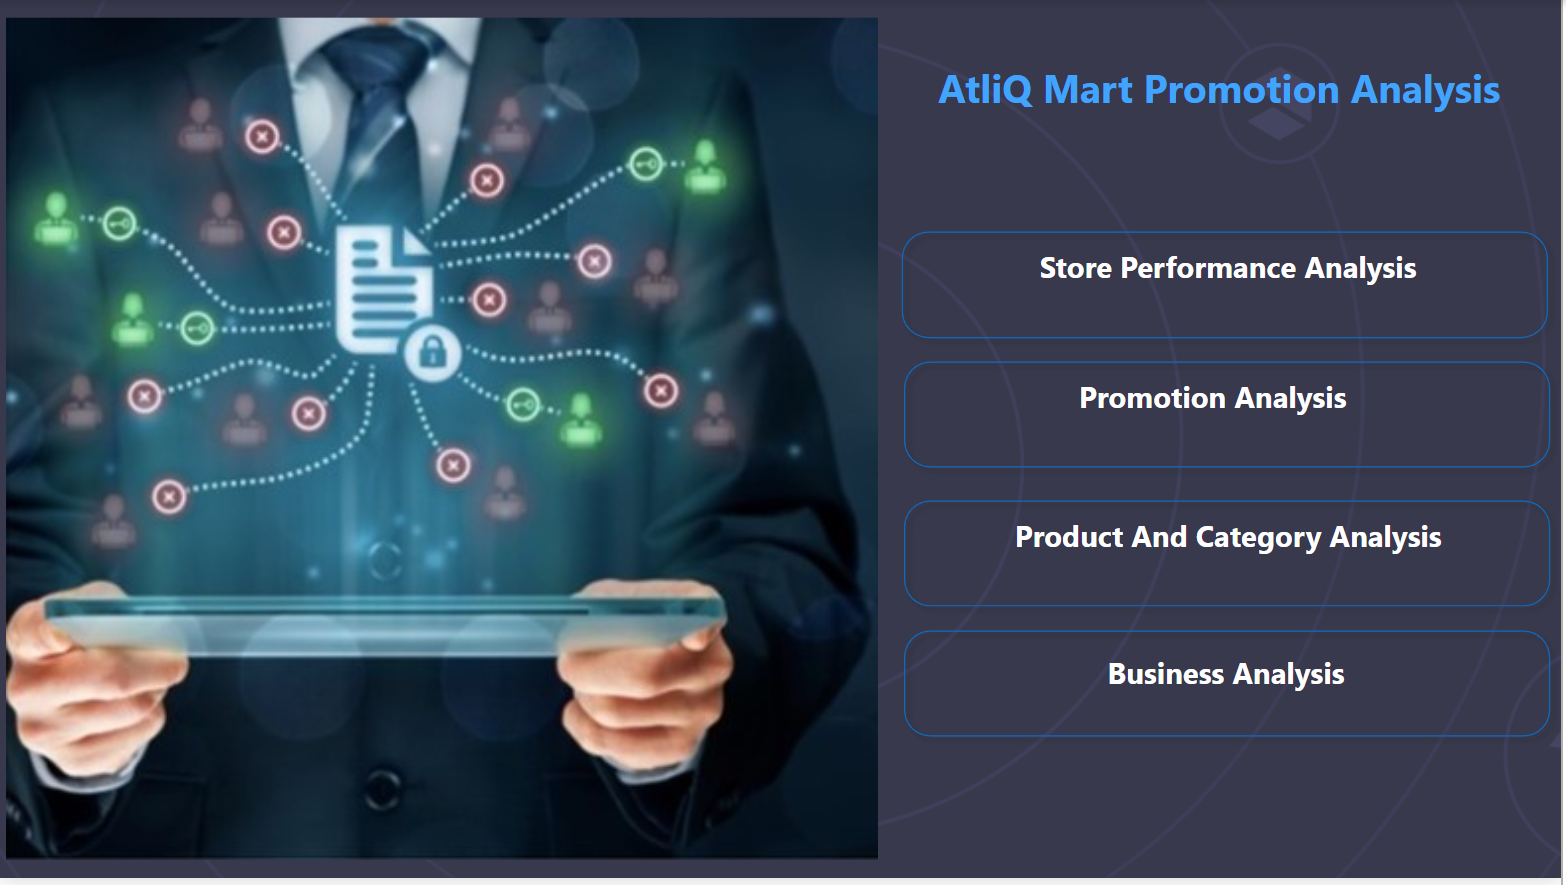

Layout of this report page (visuals, bound fields, positions):
{"tool":"powerbi","page":{"name":"Home","canvas":[1280,720],"ordinal":0},"visuals":[{"type":"image","box":[0,0.1,725.3,719.9],"z":0},{"type":"shape","box":[725.3,133.8,555.3,584.3],"z":1000},{"type":"textbox","box":[721.7,44.5,557.1,89.4],"z":2000},{"type":"shape","box":[730.7,180.9,548,105.5],"z":3000},{"type":"textbox","box":[812.1,197.1,390.7,52.5],"z":4000},{"type":"shape","box":[732.5,287.6,548,104.9],"z":5000},{"type":"shape","box":[732.5,401.5,548,104.9],"z":6000},{"type":"shape","box":[732,507.5,548,104.9],"z":7000},{"type":"textbox","box":[812.1,303.9,365.4,56.1],"z":9000},{"type":"textbox","box":[812.1,417.8,390.7,48.8],"z":10000},{"type":"textbox","box":[748.8,530,513.8,58.9],"z":11000}]}

Visuals, with their boxes in screenshot pixels (x1, y1, x2, y2), scaled from the page's 1280x720 canvas onto the 1566x885 screenshot:
image: 0, 0, 887, 884
shape: 887, 164, 1565, 883
textbox: 883, 55, 1565, 165
shape: 894, 222, 1564, 352
textbox: 994, 242, 1472, 307
shape: 896, 354, 1565, 482
shape: 896, 494, 1565, 622
shape: 896, 624, 1565, 753
textbox: 994, 374, 1441, 442
textbox: 994, 514, 1472, 574
textbox: 916, 651, 1545, 724
